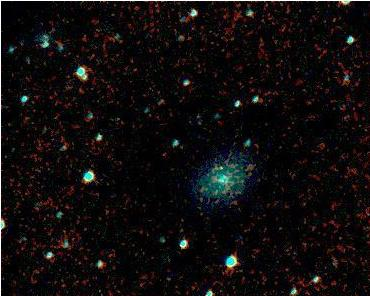star: (204, 153, 234, 183)
